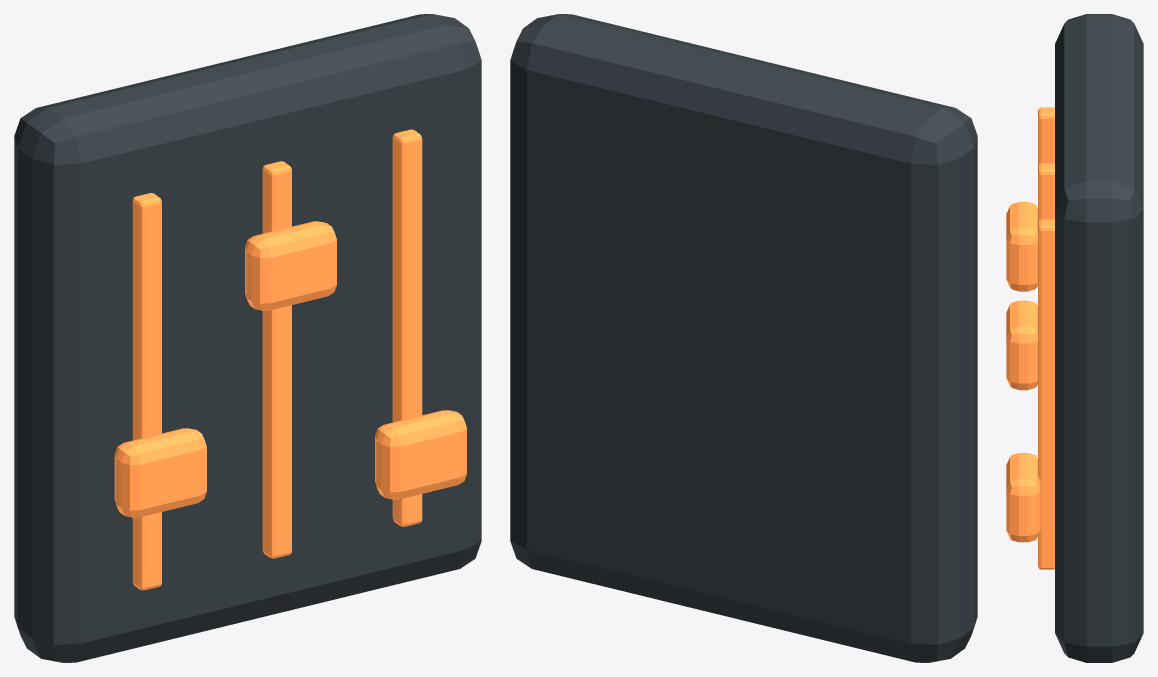
File: Artifact_Usage.glb
3 views of the same model, side by side, from view 1: azimuth 30°, elevation 25°; view 2: azimuth 150°, elevation 25°; view 3: azimuth 270°, elevation 25° (orthographic). The views are drawn at different scales.
Parts seen in each view (by area): view 1: Artifact_Usage_Mesh; view 2: Artifact_Usage_Mesh; view 3: Artifact_Usage_Mesh.
Boxes of the visible parts, bbox=[...] form: Artifact_Usage_Mesh: bbox=[14, 14, 481, 662]; Artifact_Usage_Mesh: bbox=[510, 14, 977, 662]; Artifact_Usage_Mesh: bbox=[1006, 14, 1143, 662].
Size of the model in its own units: 0.36 by 0.42 by 0.1085.
